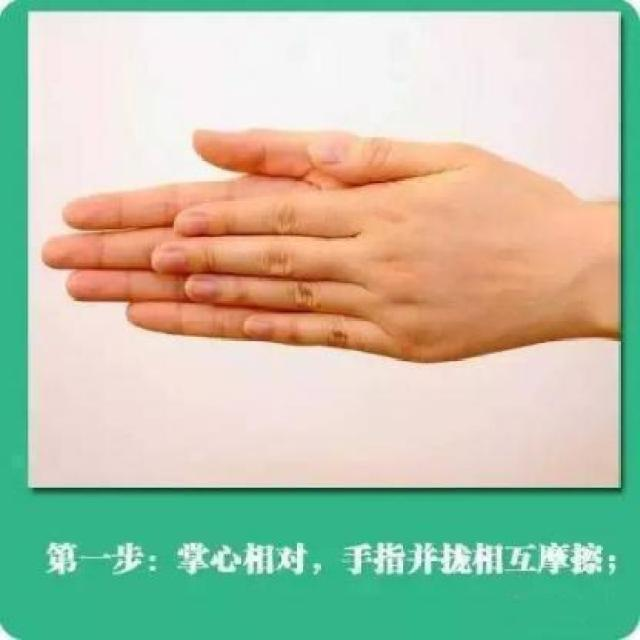hand_noglove: (154, 135, 571, 363), (32, 124, 391, 339)
